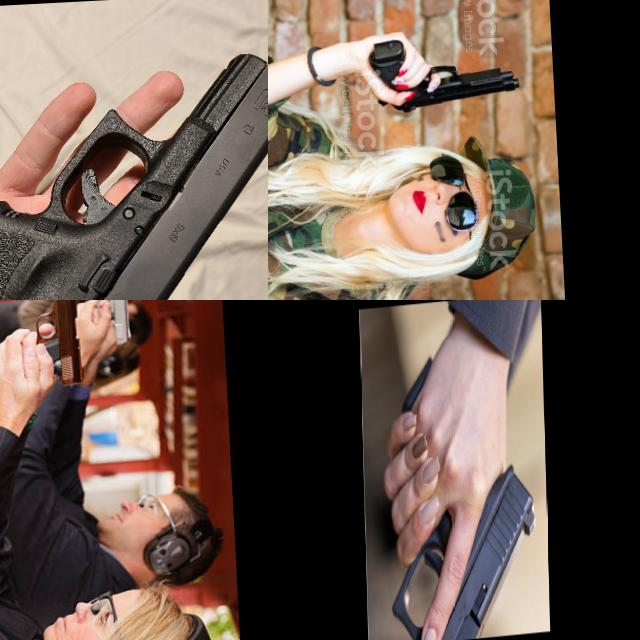handgun: (0, 46, 268, 300), (365, 342, 538, 640), (362, 29, 525, 118), (12, 300, 85, 391), (82, 300, 134, 349)
